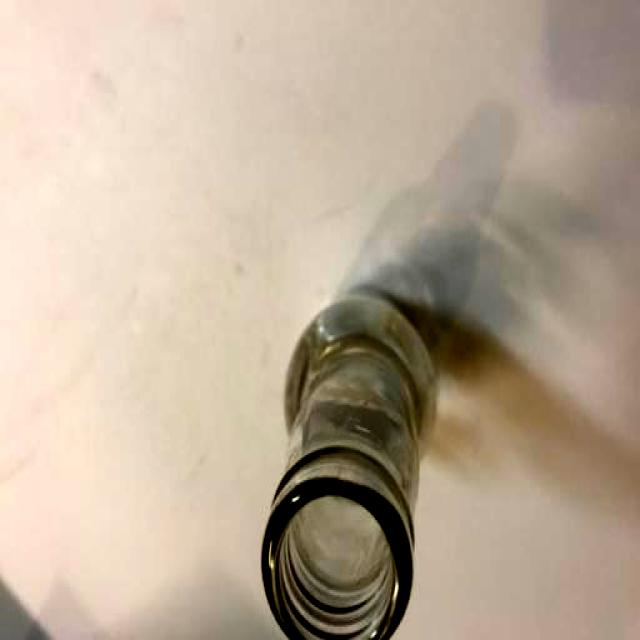Glass: (260, 288, 438, 640)
